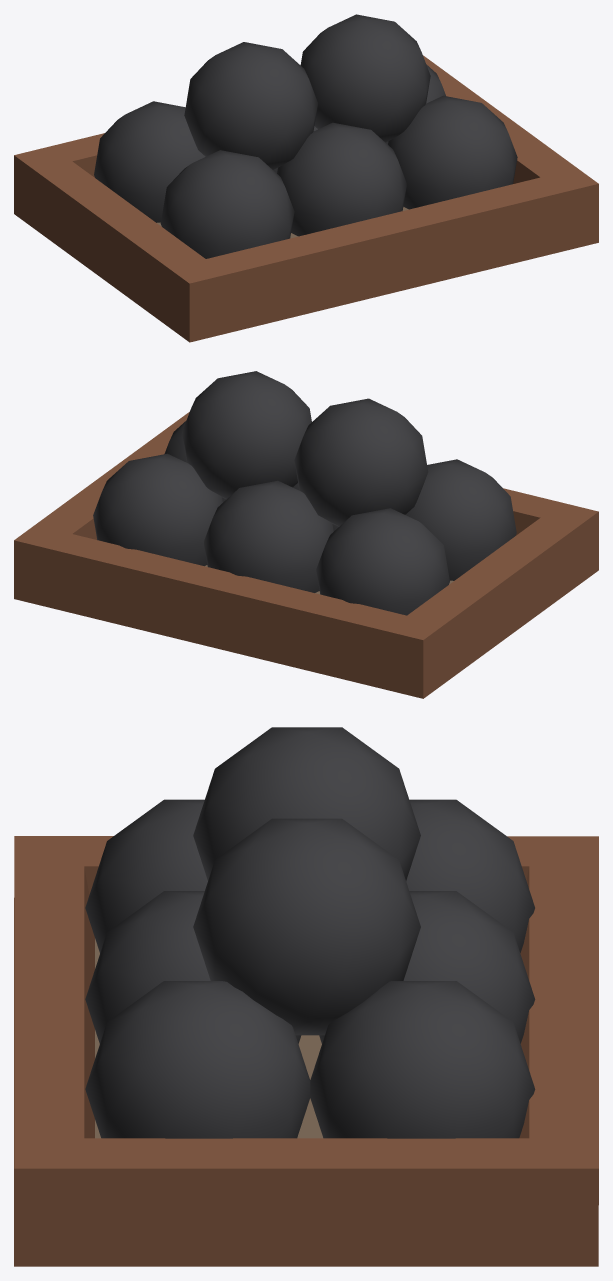
Rendered from Kernels_Palette.fbx.
3 views of the same model, one above another, from view 1: azimuth 30°, elevation 25°; view 2: azimuth 150°, elevation 25°; view 3: azimuth 270°, elevation 25° (orthographic). The views are drawn at different scales.
Visible parts, largest first — view 1: Kernels_Palette; view 2: Kernels_Palette; view 3: Kernels_Palette.
Boxes of the visible parts, x1,y1,x2,y2 form: Kernels_Palette: [14, 14, 598, 342]; Kernels_Palette: [14, 371, 598, 698]; Kernels_Palette: [14, 727, 598, 1266].
Size of the model in its own units: 117 by 53.07 by 87.03.
